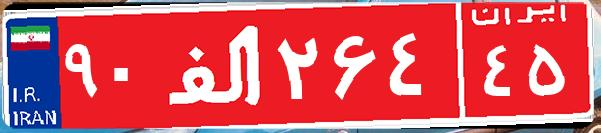0: (110, 28, 158, 105)
2: (273, 28, 330, 110)
4: (385, 28, 445, 110), (475, 38, 525, 113)
5: (525, 38, 570, 115)
6: (330, 28, 385, 110)
9: (57, 26, 110, 107)
الف: (158, 15, 273, 115)
